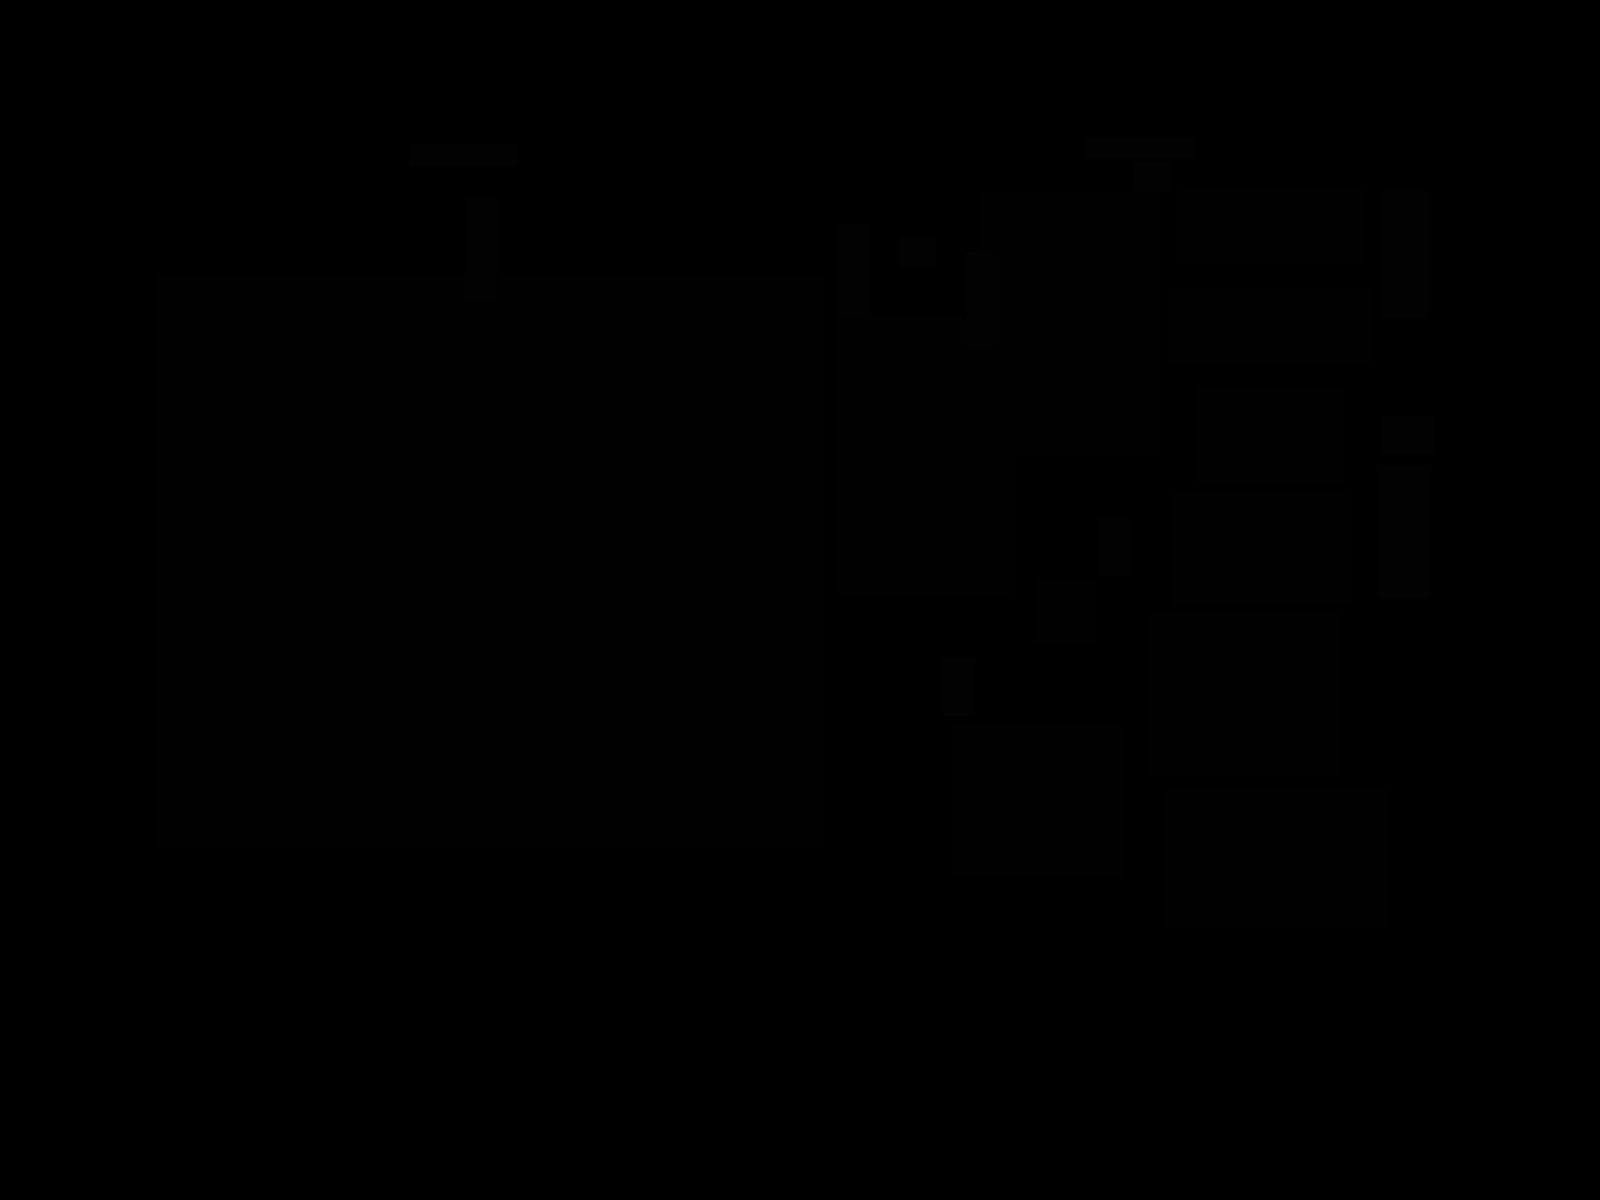1_overall: (79, 55, 1522, 1000)
3_typography: (1380, 465, 1429, 597), (1382, 192, 1427, 319), (465, 198, 496, 301), (838, 224, 871, 316), (966, 252, 994, 349), (409, 144, 517, 166), (1087, 137, 1193, 158), (1099, 518, 1130, 576), (944, 658, 975, 716), (900, 237, 936, 267), (1133, 163, 1169, 192)
4_illustration: (157, 274, 825, 850), (838, 316, 1015, 594), (981, 192, 1160, 458), (1150, 613, 1340, 776), (1167, 789, 1388, 929), (952, 726, 1123, 879), (1172, 493, 1351, 605), (1167, 287, 1373, 363), (1194, 386, 1344, 483), (1177, 189, 1366, 265), (1034, 579, 1097, 645)
5_stamp: (1381, 416, 1435, 454)
